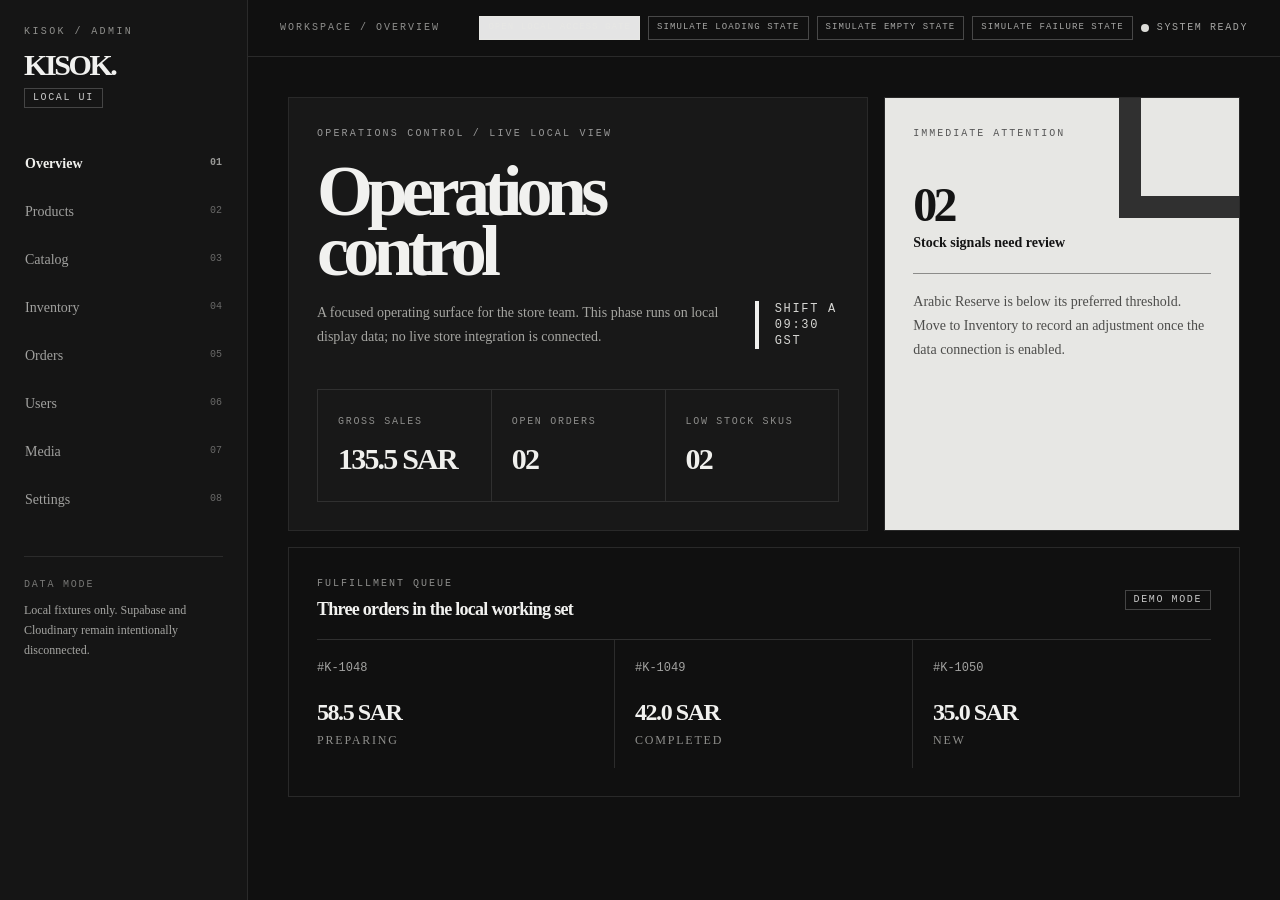
Test: KisokAdminConsole › edits local operational settings through the same confirmed dialog
Click the button "Settings 08" at [124, 500], box [24,476,223,524]
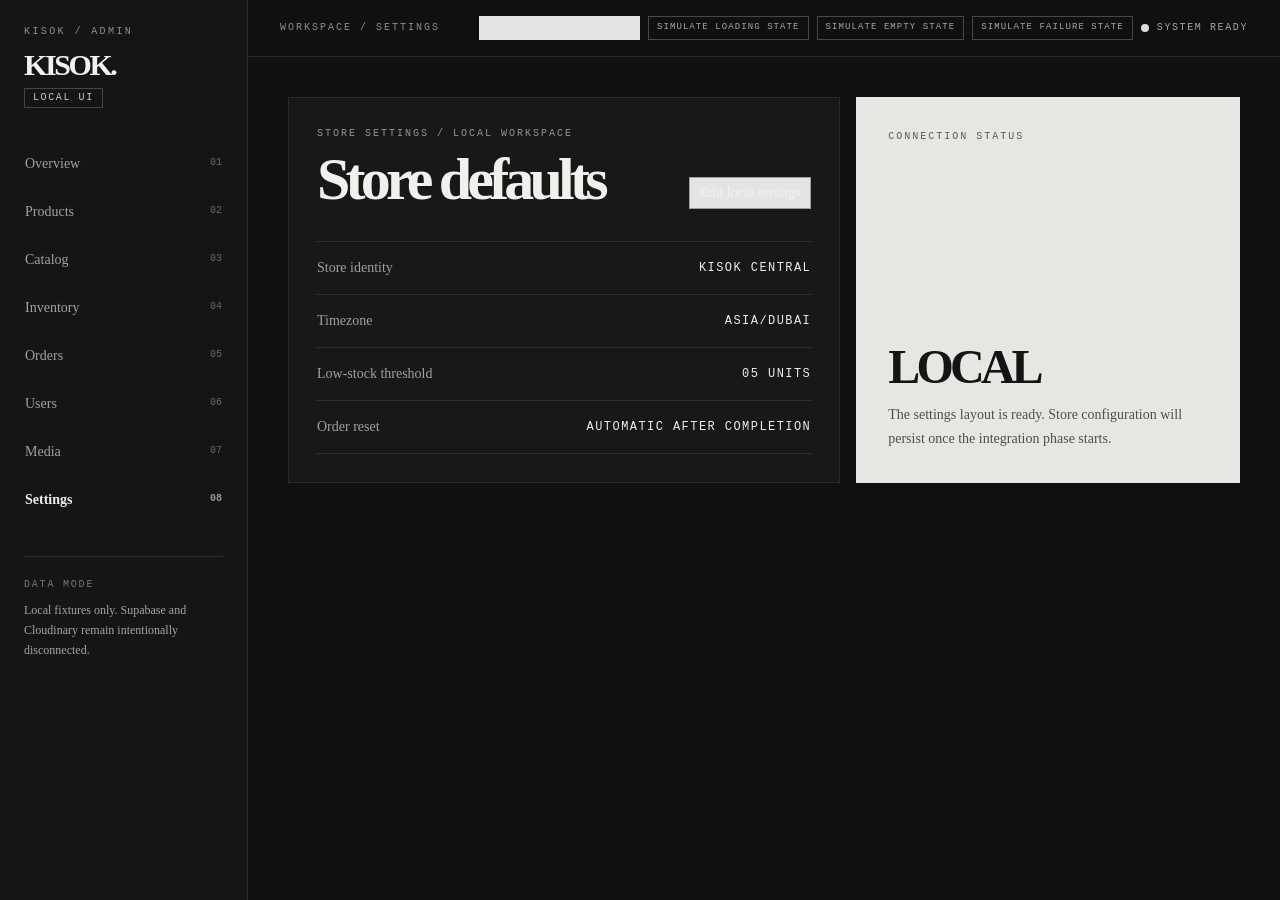
Click the button "Edit local settings" at [750, 192], box [689,176,811,208]
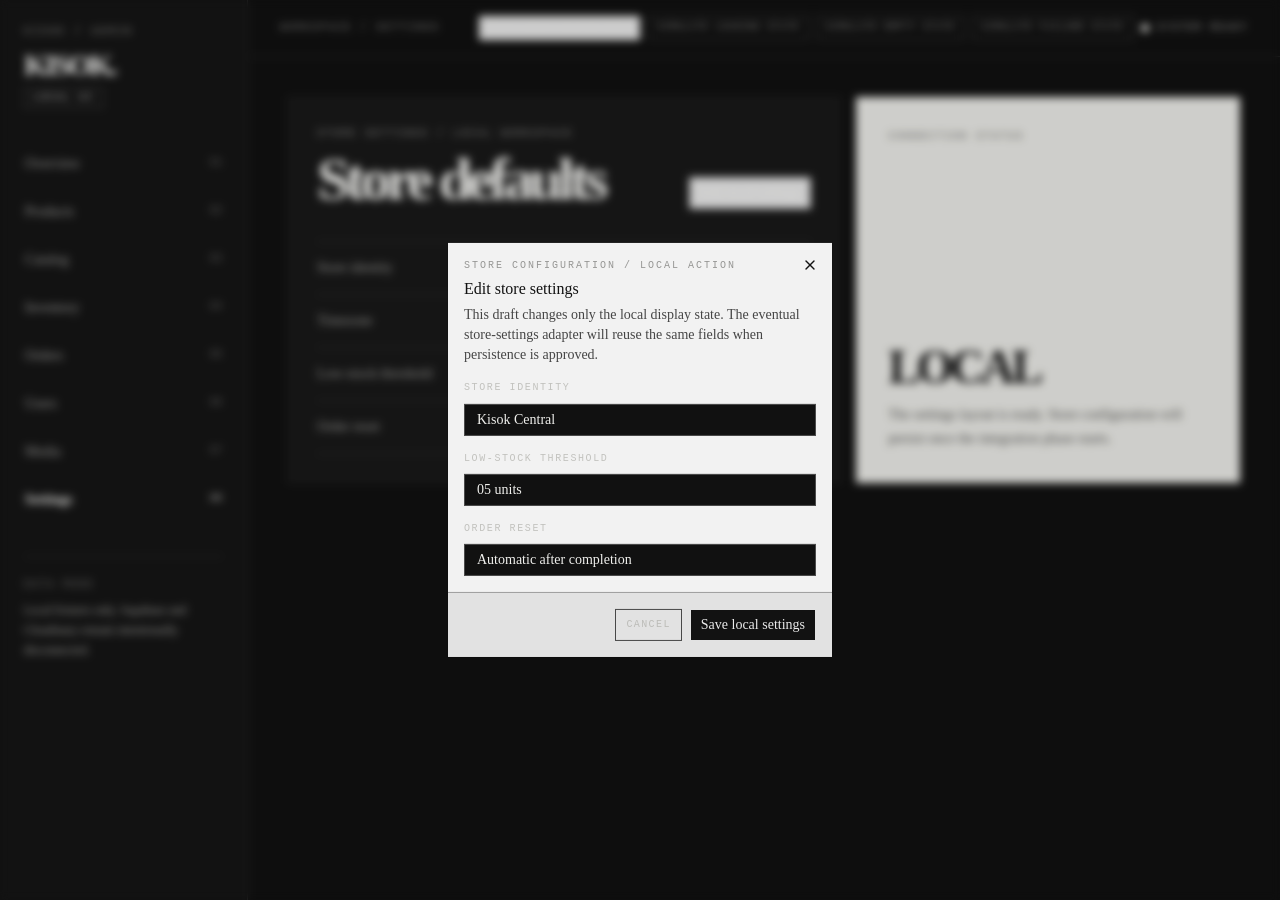
Replace the text in the field labelled "Low-stock threshold" with "08 units" at [640, 490], box [464,474,816,506]
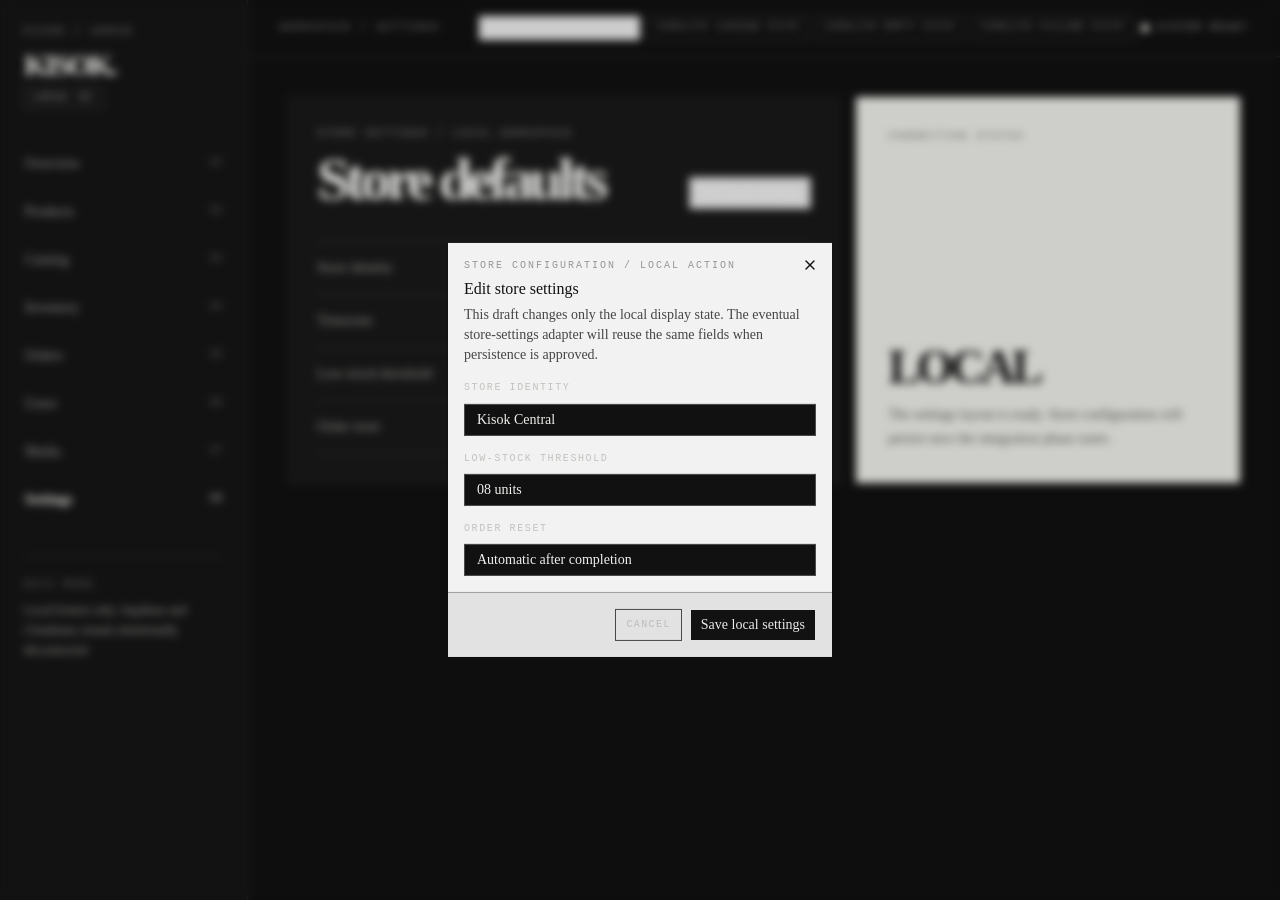
Replace the text in the field labelled "Order reset" with "Manual approval after completion" at [640, 560], box [464,544,816,576]
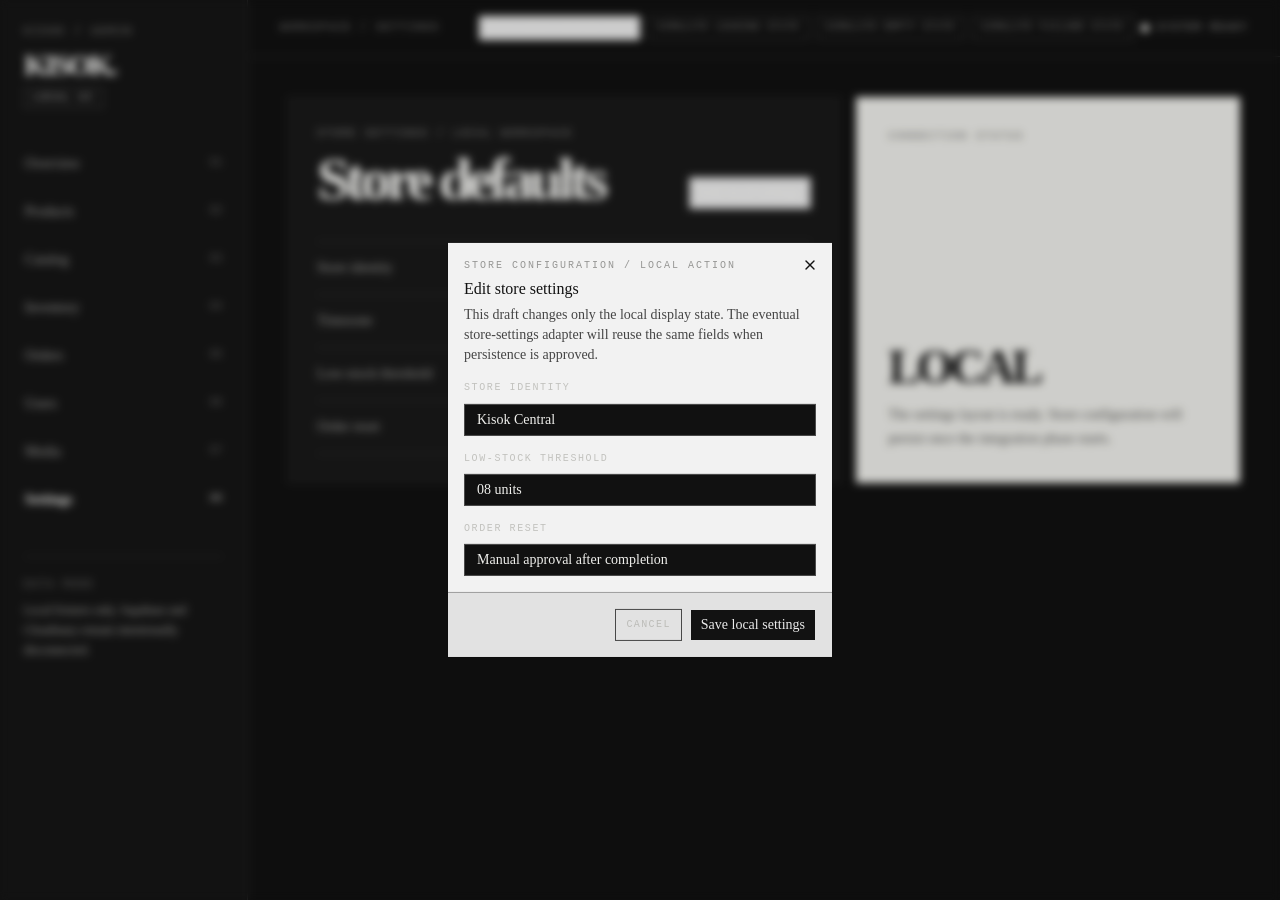
Click the button "Save local settings" at [753, 625], box [690,609,816,641]
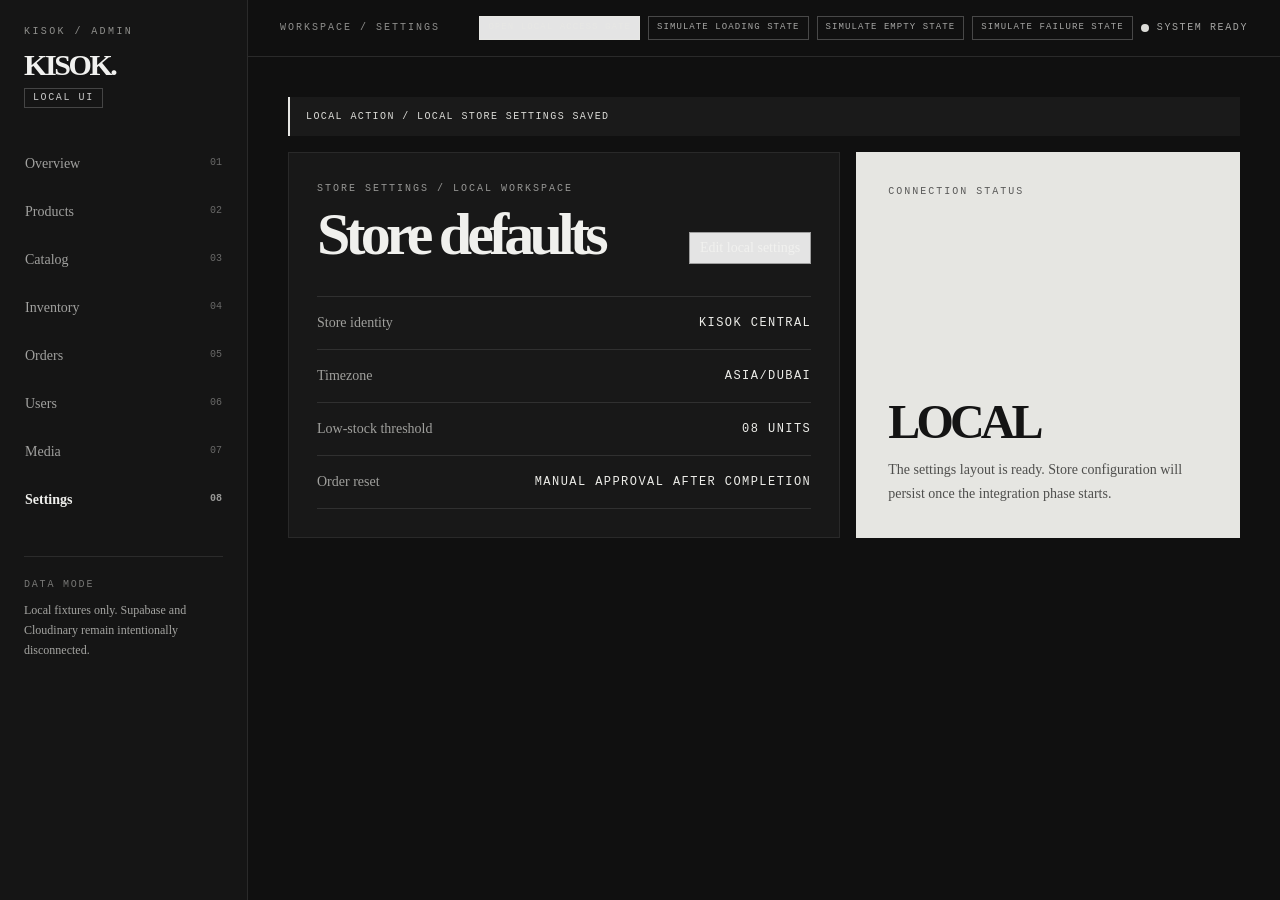
Now the text "08 units" is shown, box [742,420,811,436]
Now the text "Manual approval after completion" is shown, box [535,474,811,490]
